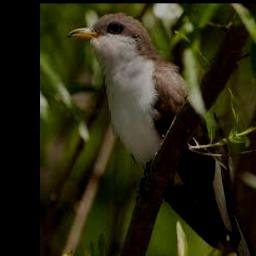Cuckoo: (67, 12, 256, 256)
